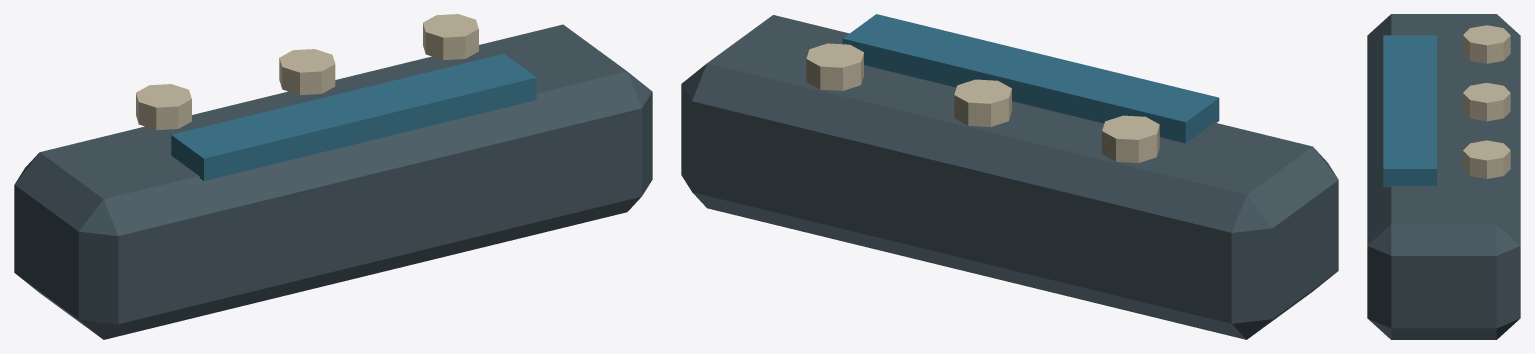
Rendered from set_document_scanner.glb.
3 views of the same model, side by side, from view 1: azimuth 30°, elevation 25°; view 2: azimuth 150°, elevation 25°; view 3: azimuth 270°, elevation 25° (orthographic). The views are drawn at different scales.
Parts seen in each view (by area): view 1: set_document_scanner; view 2: set_document_scanner; view 3: set_document_scanner.
Boxes of the visible parts, x1,y1,x2,y2 form: set_document_scanner: (14, 14, 652, 339); set_document_scanner: (681, 14, 1338, 339); set_document_scanner: (1367, 14, 1520, 339).
Bounding box in the file's own units: 0.32 × 0.092 × 0.09.
